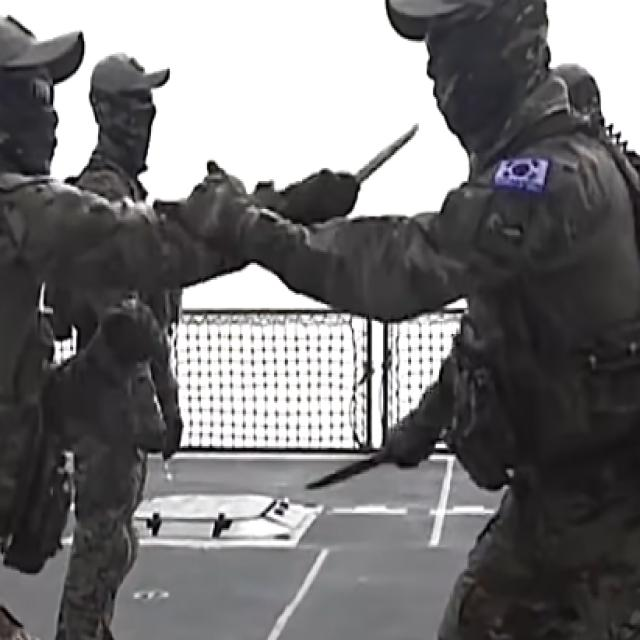Fknife: (293, 443, 421, 509), (347, 116, 422, 202)
